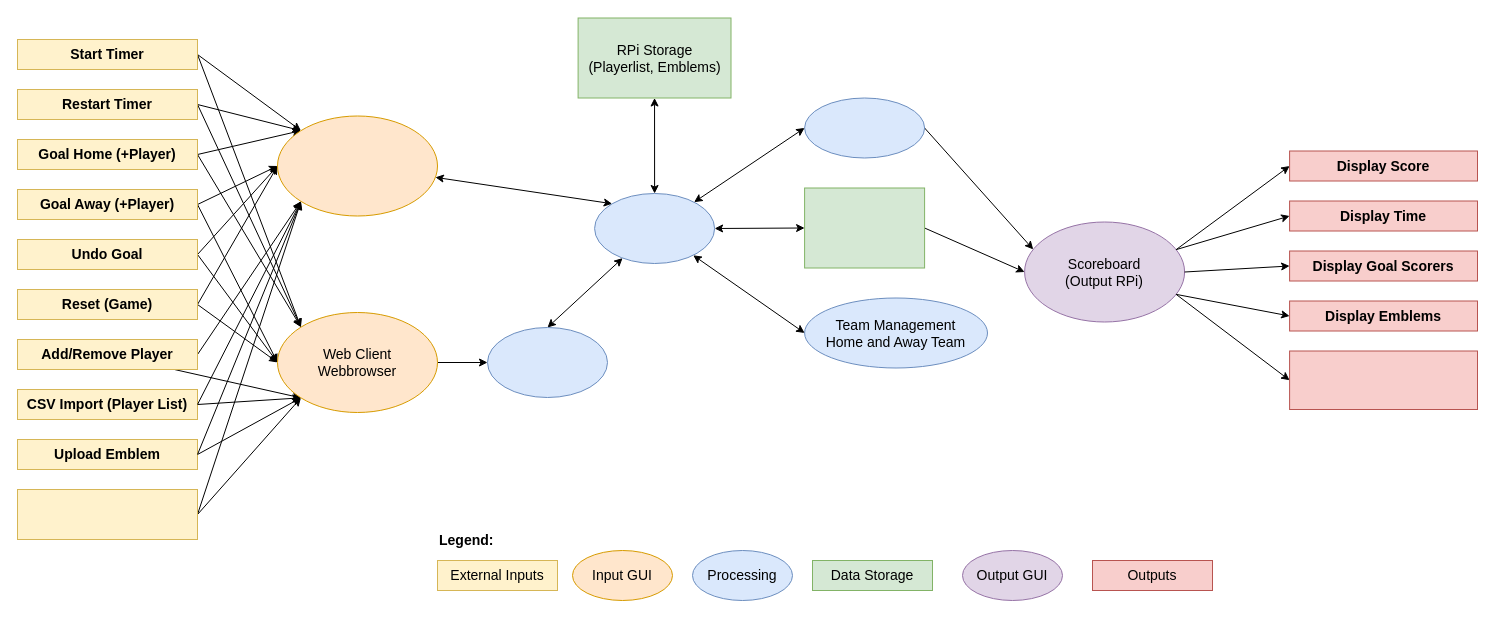
Image size: 1495x618. Some labels were removed from this diagram. The shapes that lost their labels are listed below. From the top down, each one's centre as x and y in pixels, then its label:
At point (864, 127): "Timer".
At point (357, 165): "Controll Window Rpi".
At point (654, 228): "Match Controller".
At point (864, 227): "Score Memory (Goals, Time, Players)".
At point (547, 362): "Websocket".
At point (1383, 380): "Slideshow (PreGame/HalfTime/PostGame)".
At point (107, 514): "Change Match State (PreGame/FirstHalf/HalfTime/ SecondHalf/PostGame)".
